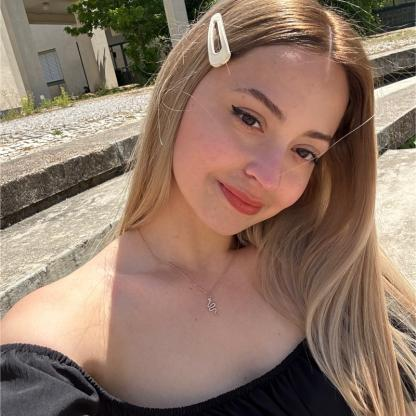person: (159, 8, 371, 241)
